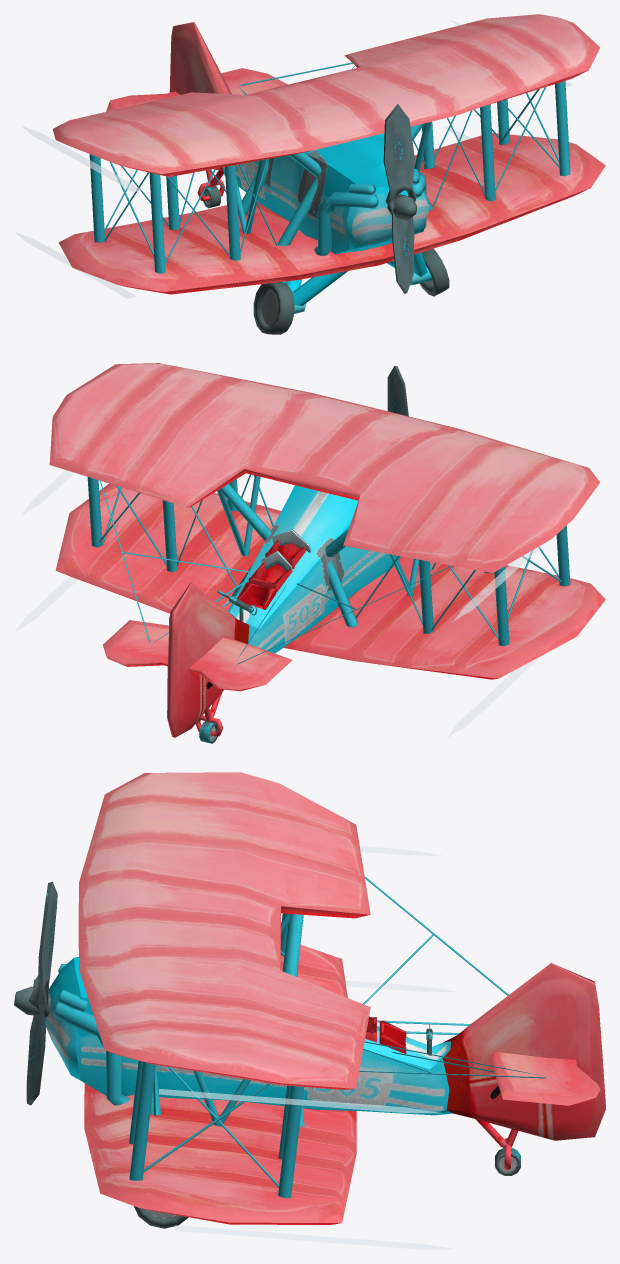
File: mitsubishi_b2m2_-_game_art_1_stylized_plane.glb
3 views of the same model, one above another, from view 1: azimuth 30°, elevation 25°; view 2: azimuth 150°, elevation 25°; view 3: azimuth 270°, elevation 25° (orthographic). The views are drawn at different scales.
Parts seen in each view (by area): view 1: Fuselage, Propellor, Wind_Top, Wind_Bottom; view 2: Fuselage, Wind_Bottom, Wind_Top, Propellor; view 3: Fuselage, Propellor, Wind_Bottom, Wind_Top.
Boxes of the visible parts, x1,y1,x2,y2 form: Fuselage: (52, 14, 605, 334); Propellor: (383, 104, 416, 293); Wind_Top: (21, 20, 572, 192); Wind_Bottom: (15, 127, 471, 298); Fuselage: (49, 363, 605, 743); Wind_Bottom: (14, 576, 543, 737); Wind_Top: (21, 470, 546, 621); Propellor: (387, 365, 408, 416); Fuselage: (14, 772, 605, 1228); Propellor: (26, 881, 57, 1105); Wind_Bottom: (175, 980, 458, 1249); Wind_Top: (159, 846, 442, 1113).
Bounding box in the file's own units: 17.01 × 7.83 × 14.07.
Materials: 2 (1 with a texture image).
